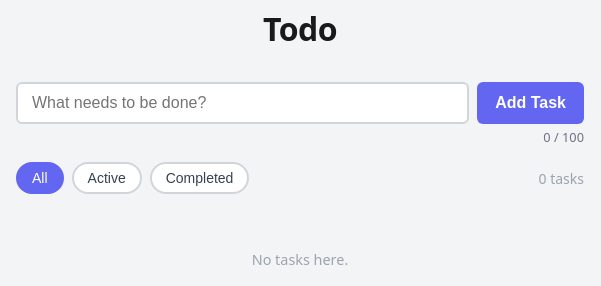
it: Todo App › saves an edited task when the input loses focus
The width and height of the screenshot is (601, 286).
In the field named "New task": (243, 103) [16,82,469,124], type "Read docs"
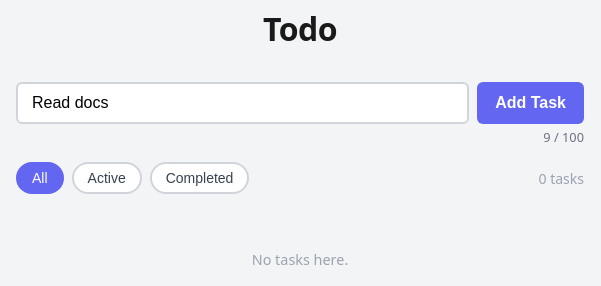
Click the button "Add Task": (531, 103) [477,82,584,124]
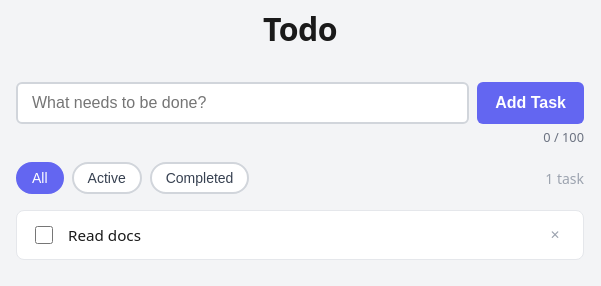
Double-click the text "Read docs": (104, 235) [68,225,141,245]
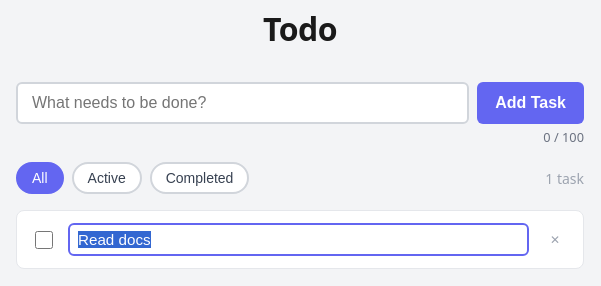
Replace the text in the field named "Edit \"Read docs\"" with "Read React docs": (298, 240) [68,223,529,256]
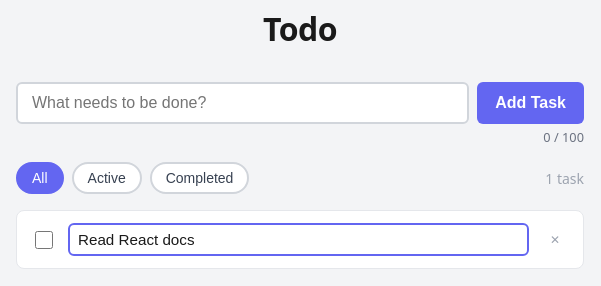
Leave the field named "Edit \"Read docs\"", box [68,223,529,256]
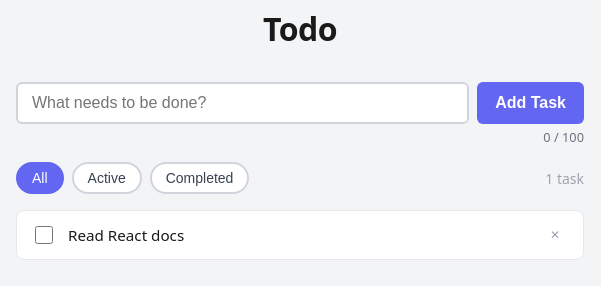
Expected: the text "Read docs" is not shown
Expected: the text "Read React docs" is shown, [68,225,184,245]
